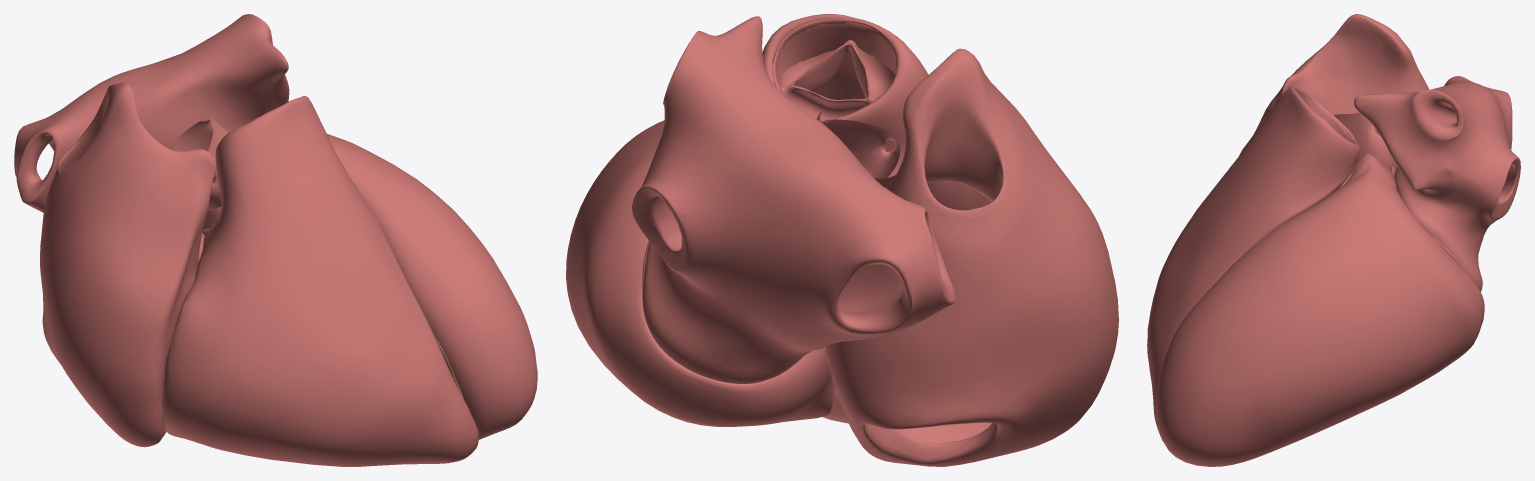
File: heart.glb
3 views of the same model, side by side, from view 1: azimuth 30°, elevation 25°; view 2: azimuth 150°, elevation 25°; view 3: azimuth 270°, elevation 25° (orthographic). The views are drawn at different scales.
Size of the model in its own units: 0.1243 by 0.1054 by 0.1052.
